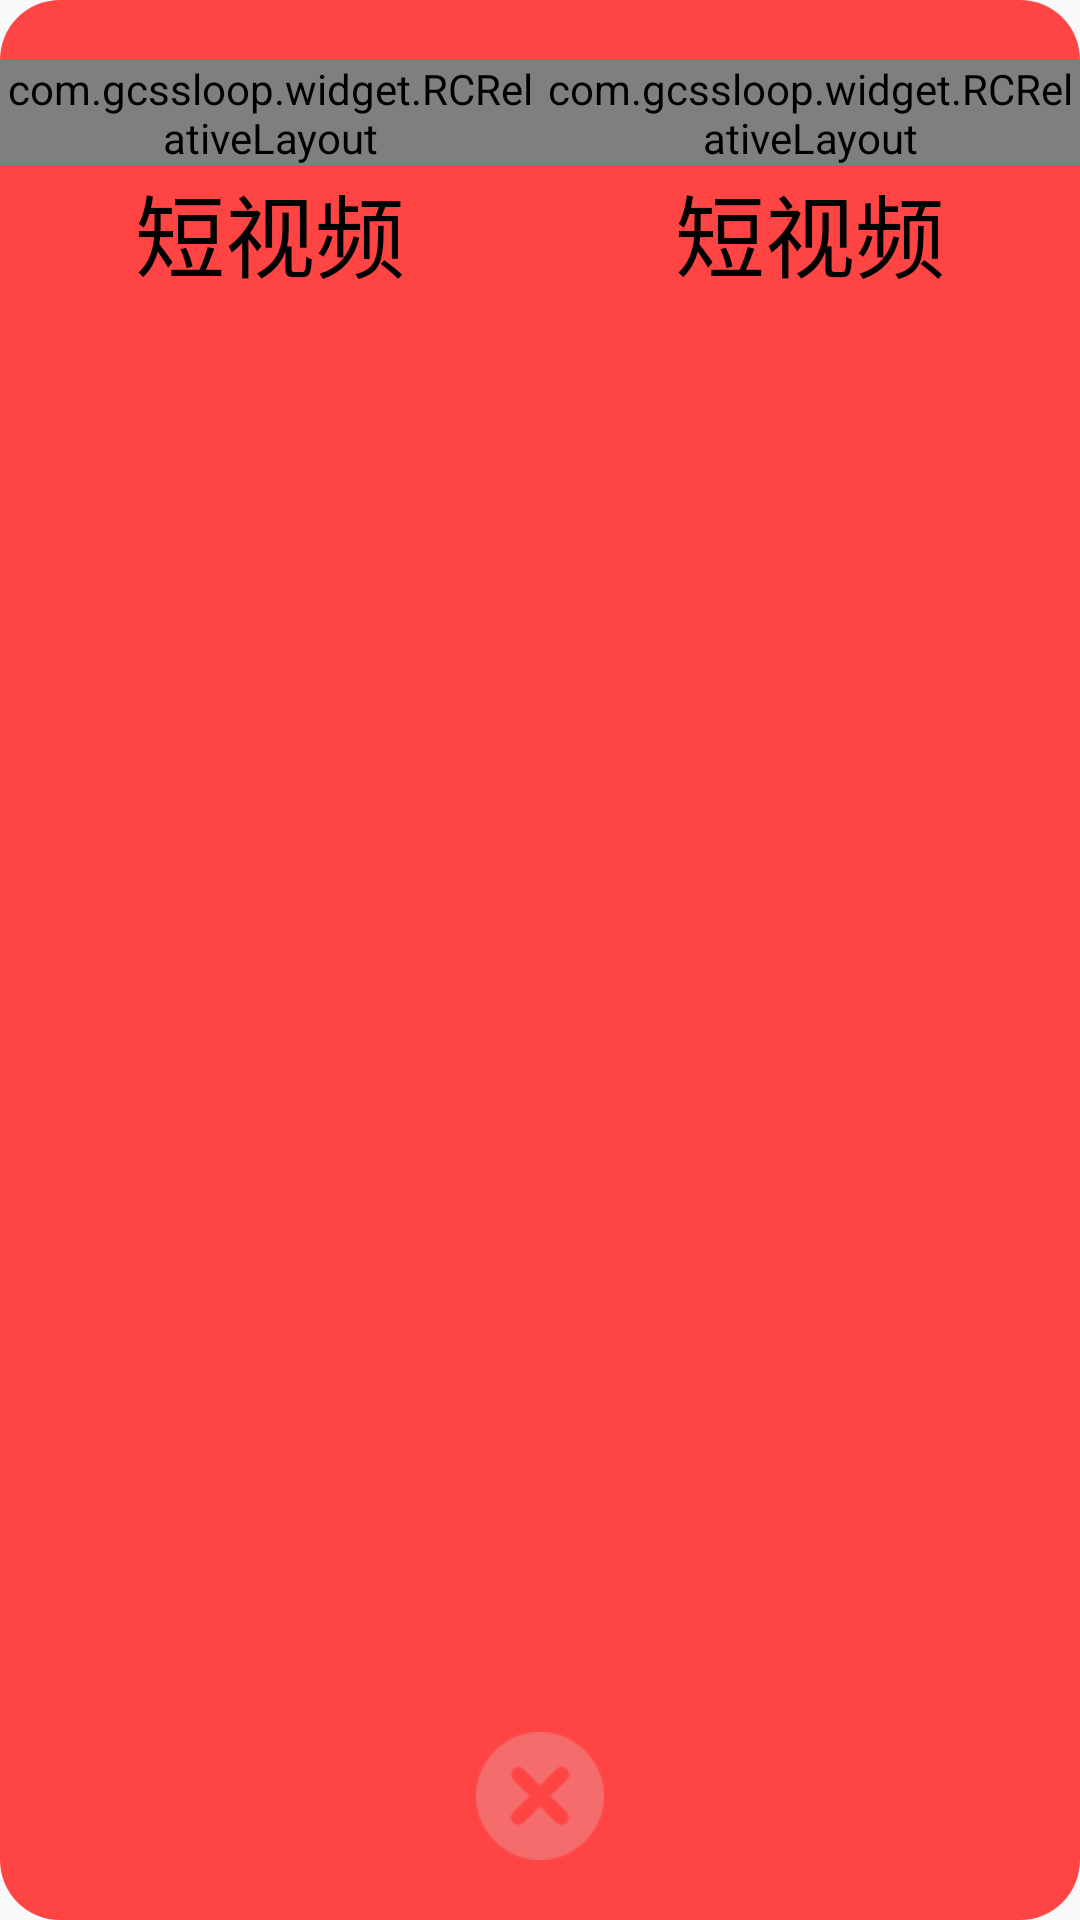

Icons on this 1080w x 1920h Android screen, each with the point to tap as point (x, y):
cuo: point (540, 1796)
